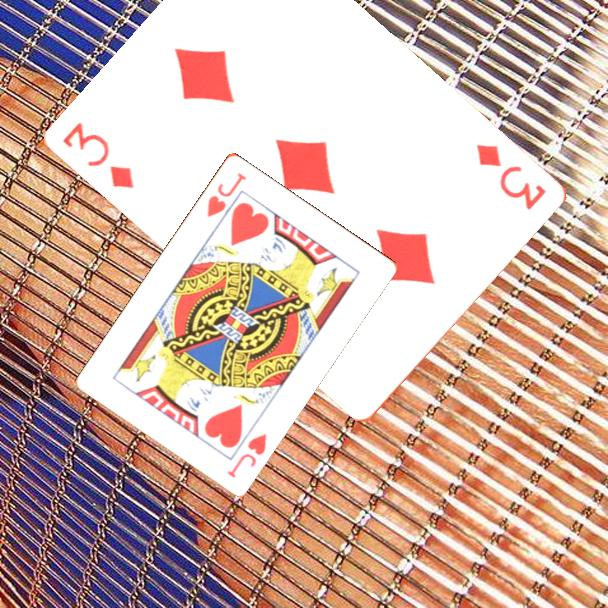d03: (60, 118, 138, 192), (473, 140, 550, 214)
h11: (203, 169, 249, 220), (223, 429, 269, 480)
